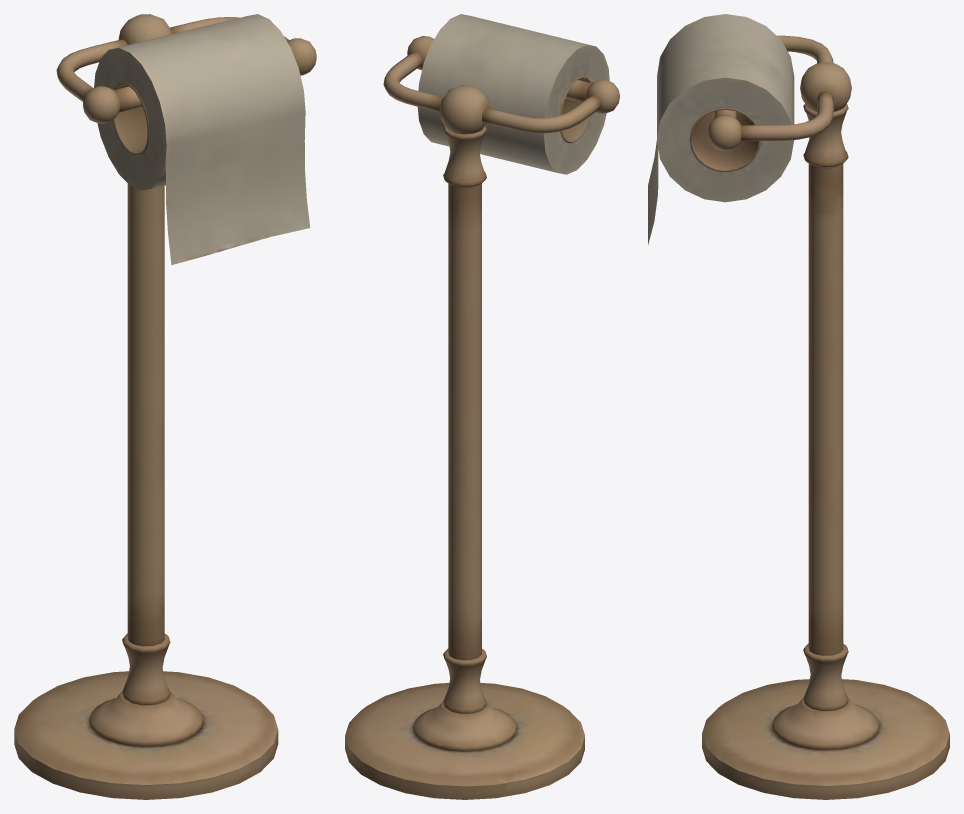
Rendered from SM_toilet_holder_02_896ba2.glb.
The picture shows the model from 3 angles, left to right: view 1: azimuth 30°, elevation 25°; view 2: azimuth 150°, elevation 25°; view 3: azimuth 270°, elevation 25°; orthographic projection. The views are drawn at different scales.
Size of the model in its own units: 0.2096 by 0.6545 by 0.2551.
1 material, 1 textured.
